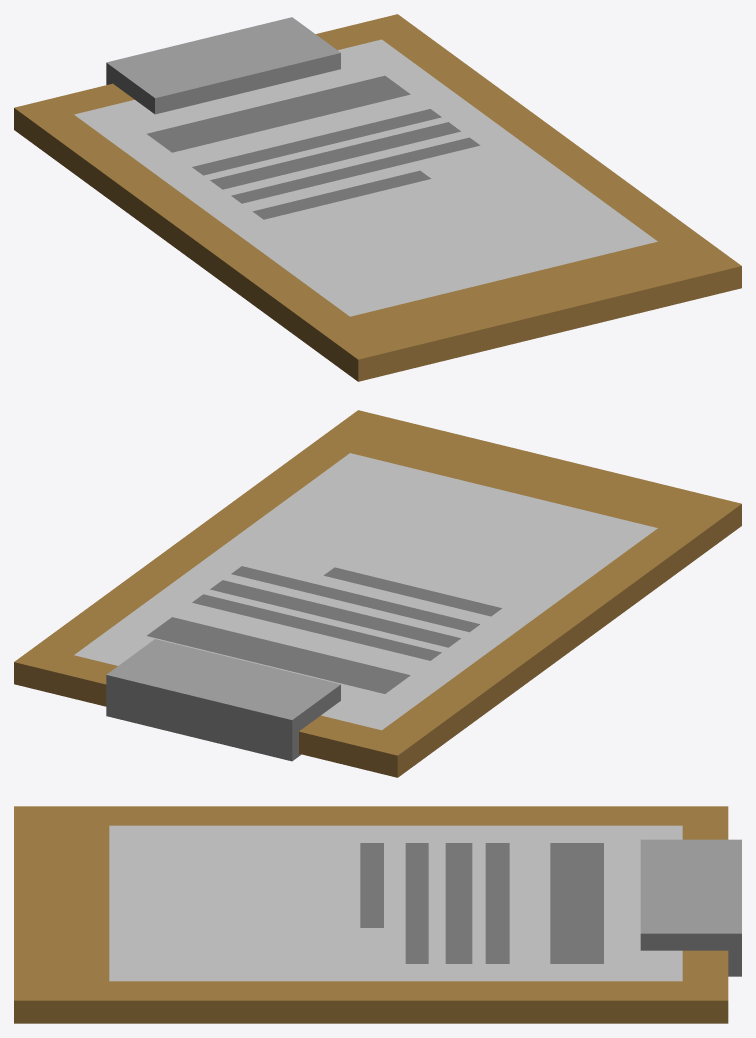
The model's file is Clipboard.FBX.
3 renders of one model, top to bottom at view 1: azimuth 30°, elevation 25°; view 2: azimuth 150°, elevation 25°; view 3: azimuth 270°, elevation 25°, orthographic. The views are drawn at different scales.
Visible parts, largest first — view 1: SM_Clipboard_01; view 2: SM_Clipboard_01; view 3: SM_Clipboard_01.
Boxes of the visible parts, bbox=[...] form: SM_Clipboard_01: bbox=[14, 14, 741, 381]; SM_Clipboard_01: bbox=[14, 410, 741, 777]; SM_Clipboard_01: bbox=[14, 806, 741, 1023].
Bounding box in the file's own units: 23.18 × 2.38 × 36.7.
